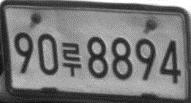0: (37, 33, 58, 76)
4: (158, 39, 182, 85)
8: (110, 36, 133, 79), (86, 36, 108, 80)
9: (12, 31, 34, 76), (134, 37, 157, 80)
루: (61, 41, 81, 78)
